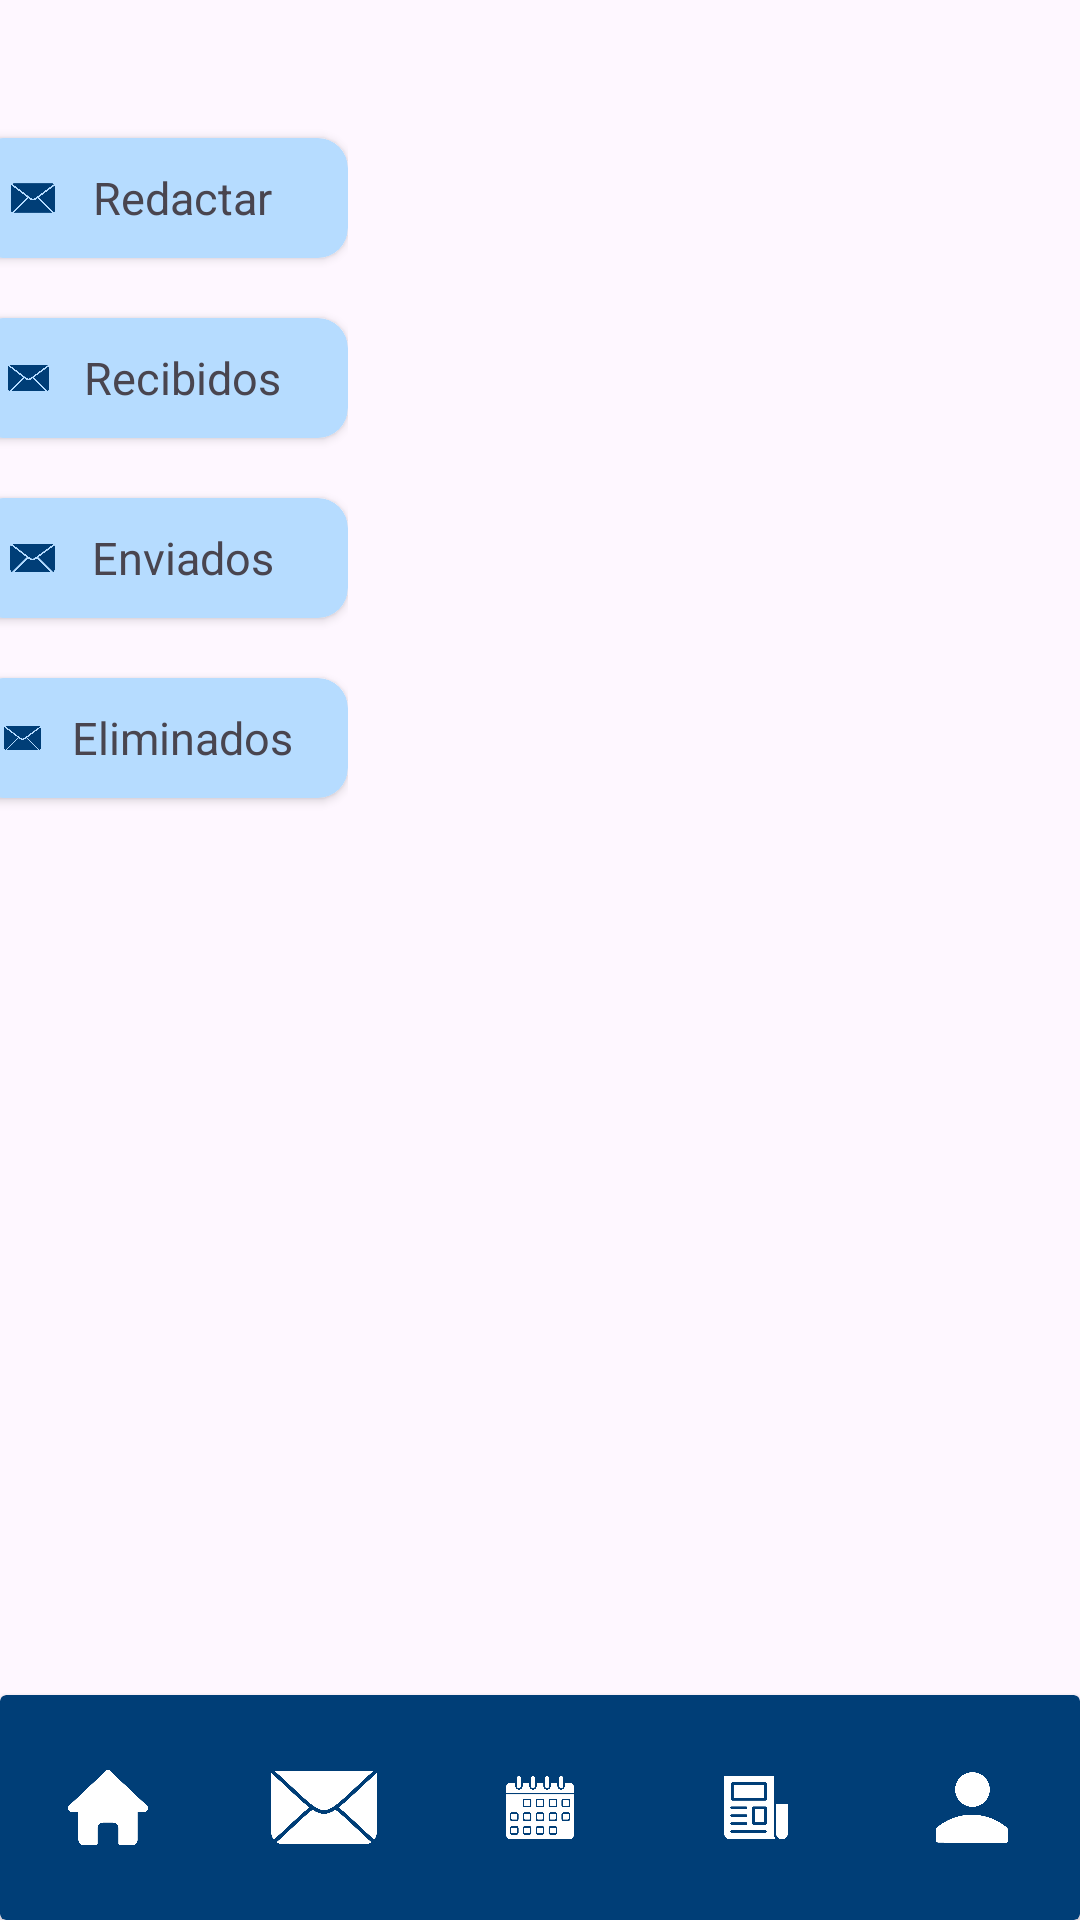

Icon click points for this 1080px x 1920px phone screenshot, format point (x, y):
correonav: point (324, 1807)
eventosnav: point (540, 1807)
noticiasnav: point (756, 1807)
